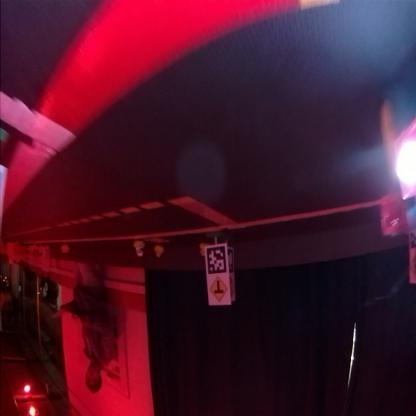Duckie: (133, 240, 145, 258), (156, 246, 165, 259), (200, 245, 206, 256)
Intersection sign: (210, 281, 228, 303)
QR code: (207, 247, 227, 276), (228, 250, 234, 271)
